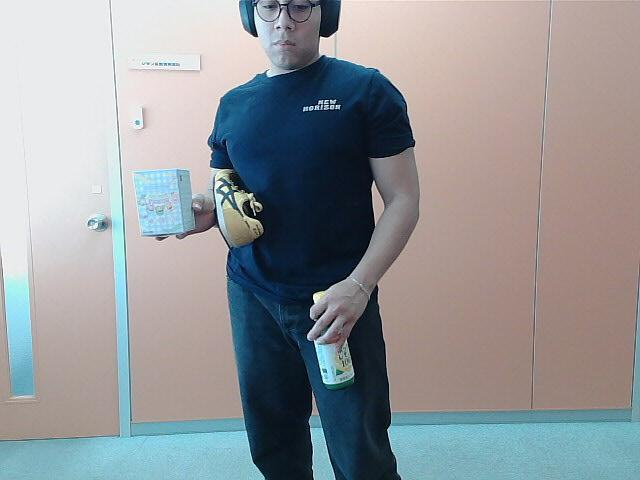Blind_box: (128, 168, 198, 236)
Lemon_sapporo: (308, 291, 354, 396)
Shoes: (212, 166, 264, 252)
